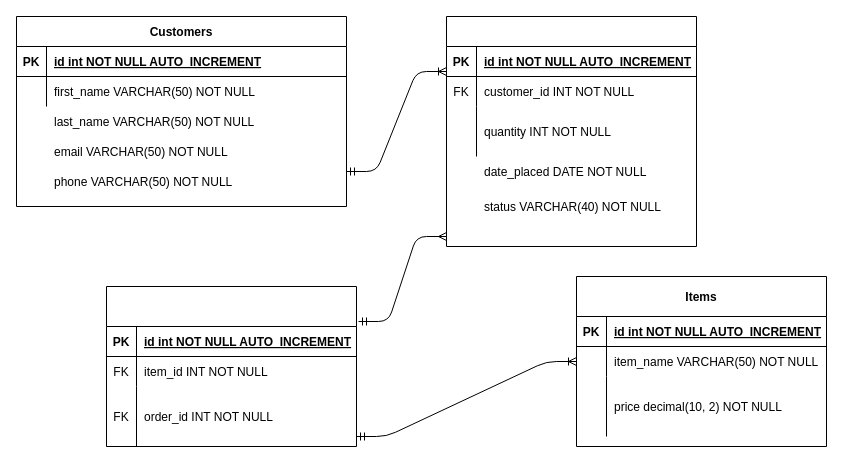
Some shapes in this 843 by 463 pixel diagram are drawn without their labels. Each missing label, with the box of its shape:
order_items: (106, 286, 356, 446)
Orders: (446, 16, 696, 246)
